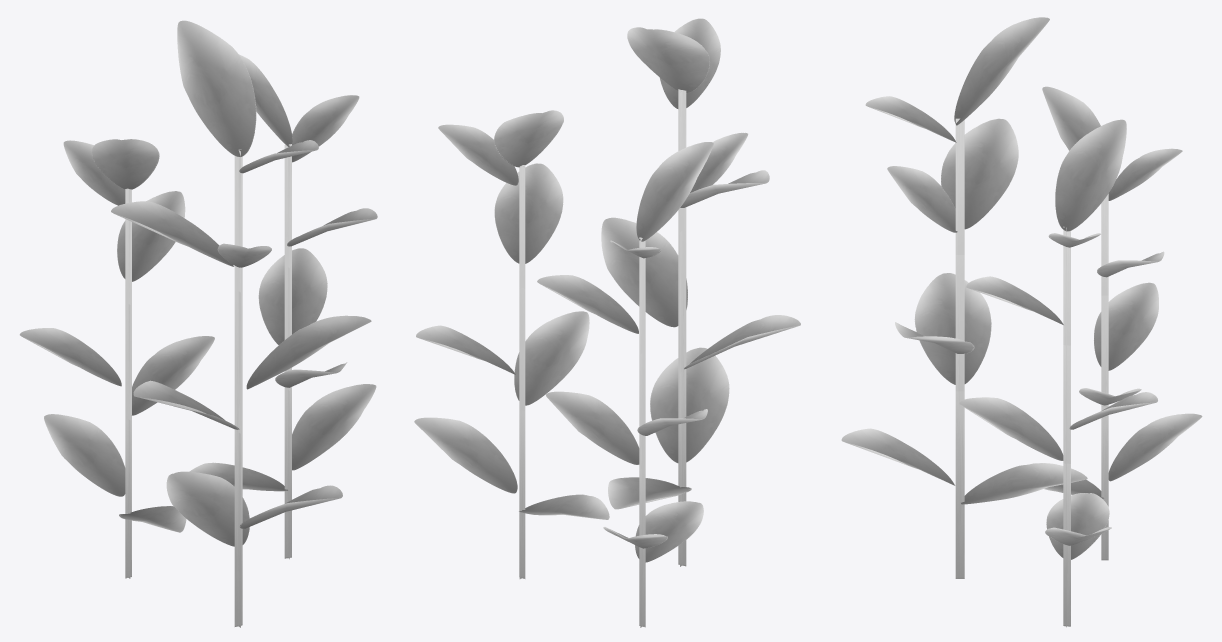
The model's file is SM_Weed_01.fbx.
3 renders of one model, left to right at view 1: azimuth 30°, elevation 25°; view 2: azimuth 150°, elevation 25°; view 3: azimuth 270°, elevation 25°, orthographic. The views are drawn at different scales.
Visible parts, largest first — view 1: SM_Weed_01_LOD0; view 2: SM_Weed_01_LOD0; view 3: SM_Weed_01_LOD0.
Part boxes in pixels (x1,y1,x2,y2): SM_Weed_01_LOD0: (19, 20, 377, 627); SM_Weed_01_LOD0: (414, 18, 800, 627); SM_Weed_01_LOD0: (841, 17, 1202, 627).
Size of what is drawn, in the model's own units: 0.8169 by 1.36 by 0.8224.
